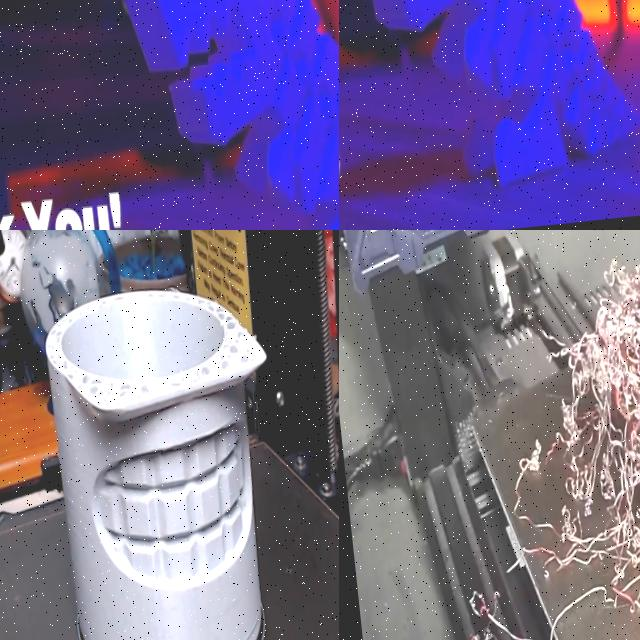spaghetti: (421, 232, 640, 640)
